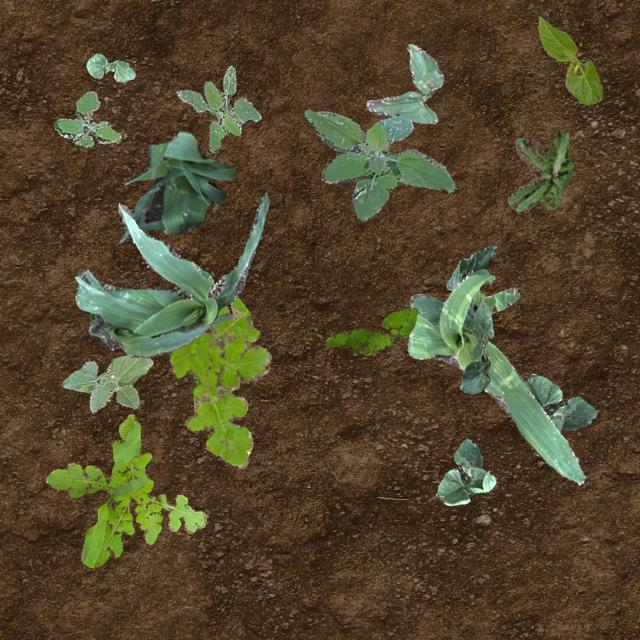crop: (408, 268, 584, 484), (74, 192, 268, 336), (116, 130, 235, 242), (88, 312, 232, 356), (364, 42, 442, 122), (536, 15, 602, 104), (62, 356, 152, 412), (524, 372, 596, 430), (436, 438, 494, 504), (458, 300, 492, 392), (446, 243, 496, 290), (84, 52, 134, 80)
weed: (44, 414, 204, 566), (168, 296, 270, 467), (304, 107, 454, 220), (176, 65, 260, 152), (506, 130, 572, 212), (324, 306, 418, 354), (52, 90, 120, 146)
